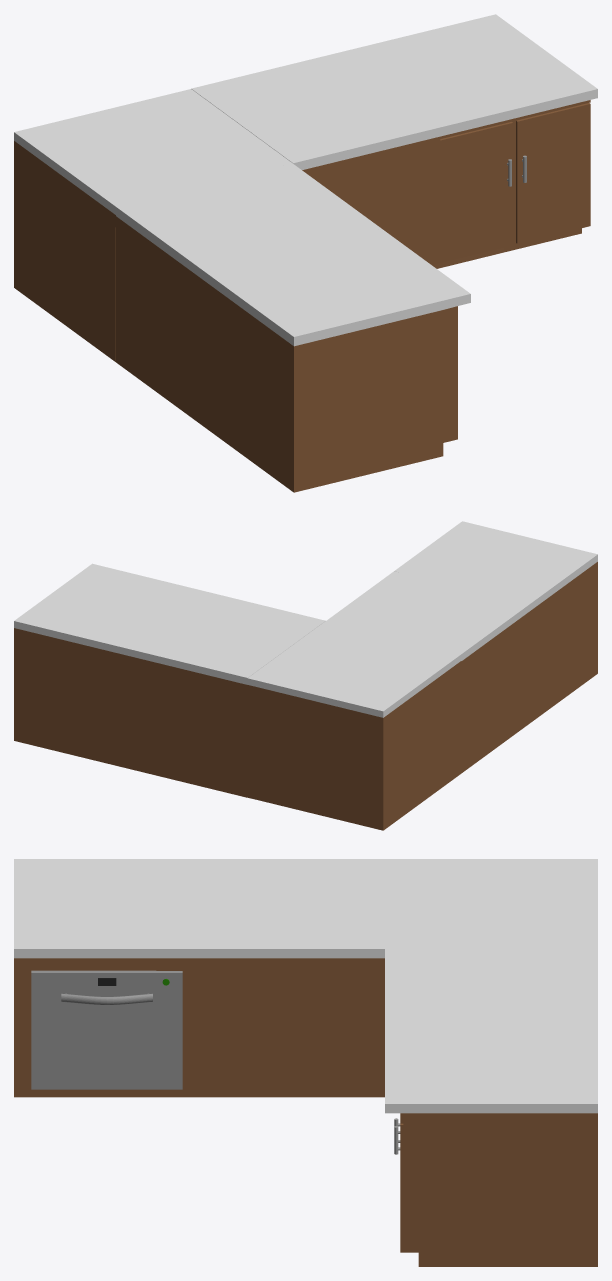
Rendered from counter.fbx.
The picture shows the model from 3 angles, top to bottom: view 1: azimuth 30°, elevation 25°; view 2: azimuth 150°, elevation 25°; view 3: azimuth 270°, elevation 25°; orthographic projection. The views are drawn at different scales.
Parts seen in each view (by area): view 1: Cube.004, Cube.002, Cube.003, Cube.001, Cube.000; view 2: Cube.003, Cube.000, Cube.002, Cube.001, Cube.004; view 3: Cube.002, Cube.004, Cube.001, Cube.003, Cube.000.
Part boxes in pixels (x1,y1,x2,y2): Cube.004: (205, 229, 470, 492); Cube.002: (346, 14, 597, 268); Cube.003: (14, 89, 292, 361); Cube.001: (116, 163, 381, 427); Cube.000: (191, 51, 447, 264); Cube.003: (247, 621, 461, 830); Cube.000: (129, 592, 325, 797); Cube.002: (14, 563, 206, 768); Cube.001: (326, 571, 529, 773); Cube.004: (394, 521, 597, 723); Cube.002: (385, 1027, 597, 1266); Cube.004: (14, 859, 199, 1097); Cube.001: (199, 859, 385, 1097); Cube.003: (385, 859, 597, 948); Cube.000: (385, 948, 597, 1027).
Size of the model in its own units: 1304 by 404 by 1312.
